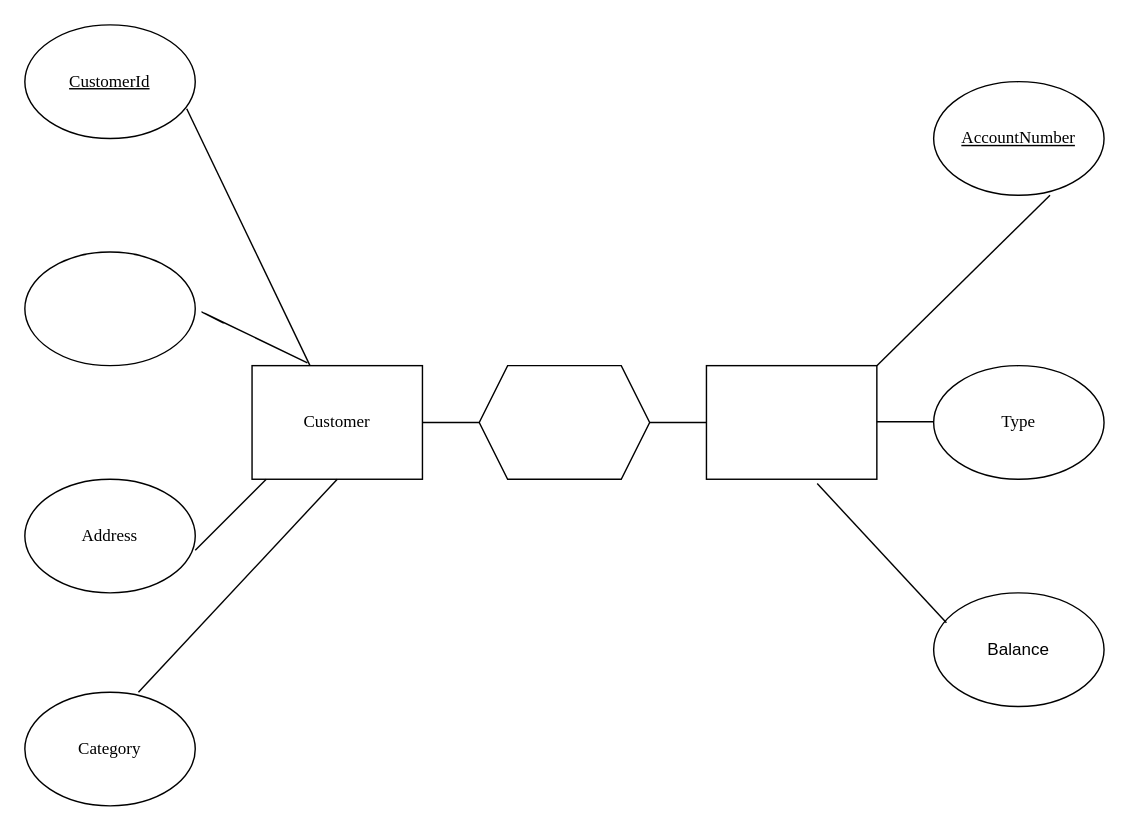
Image size: 1129x831. Some labels were removed from this diagram. The box of each missing label's shape, as (x1, y1, x2, y2) in pixels:
Account: (705, 364, 877, 479)
Has: (478, 364, 650, 479)
Name: (23, 251, 195, 366)
